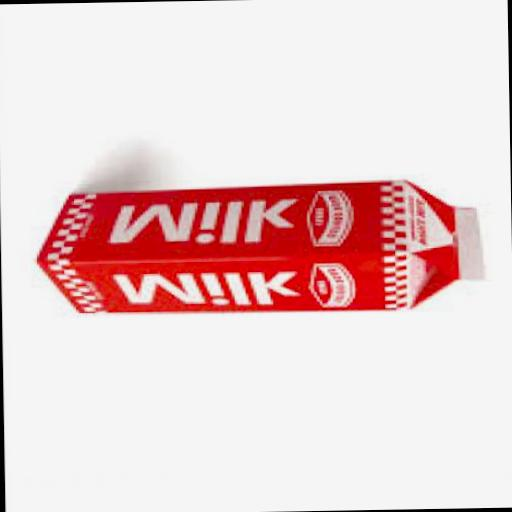cardboard: (38, 180, 488, 318)
